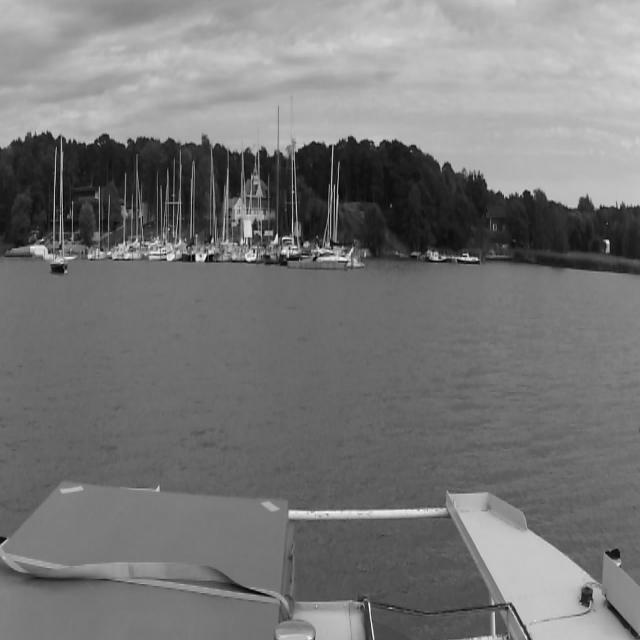ship: (266, 107, 286, 264), (280, 128, 303, 263), (197, 136, 221, 261), (49, 132, 69, 274), (245, 143, 267, 262), (216, 140, 236, 262), (233, 140, 253, 262), (148, 170, 170, 263), (186, 159, 206, 261), (126, 156, 143, 264), (167, 159, 182, 263), (312, 246, 368, 272), (88, 186, 106, 264), (112, 177, 128, 264), (422, 248, 447, 260), (456, 250, 474, 262)
